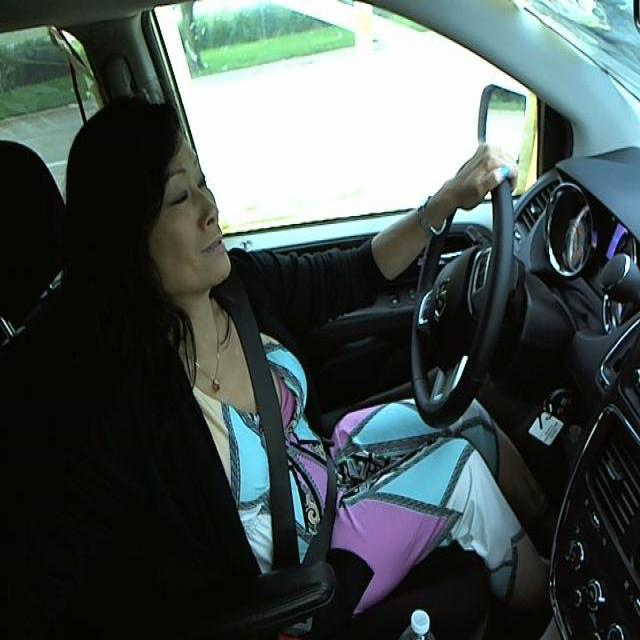seatbelt: (215, 296, 348, 589)
